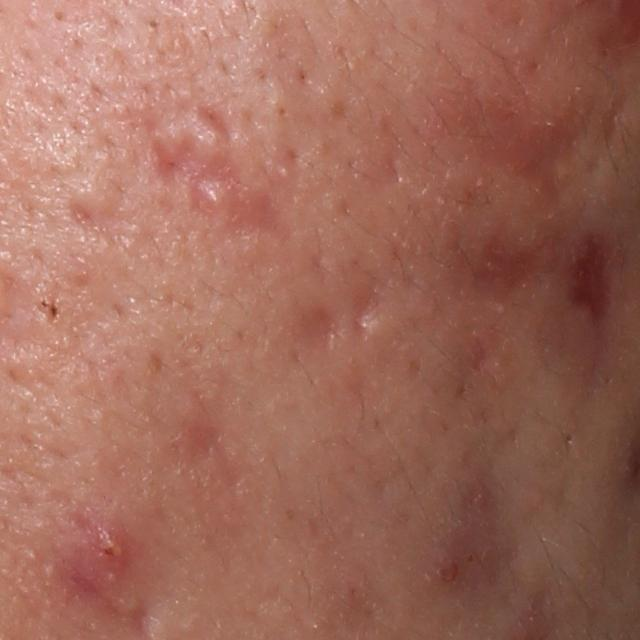atrophic_scar: (450, 86, 638, 215), (423, 452, 540, 601), (183, 154, 299, 249), (560, 223, 622, 329), (462, 241, 546, 314), (152, 131, 209, 198), (297, 303, 342, 356), (195, 103, 240, 151), (351, 290, 386, 339), (64, 202, 100, 233), (382, 147, 407, 188)
papule: (76, 520, 143, 577)
